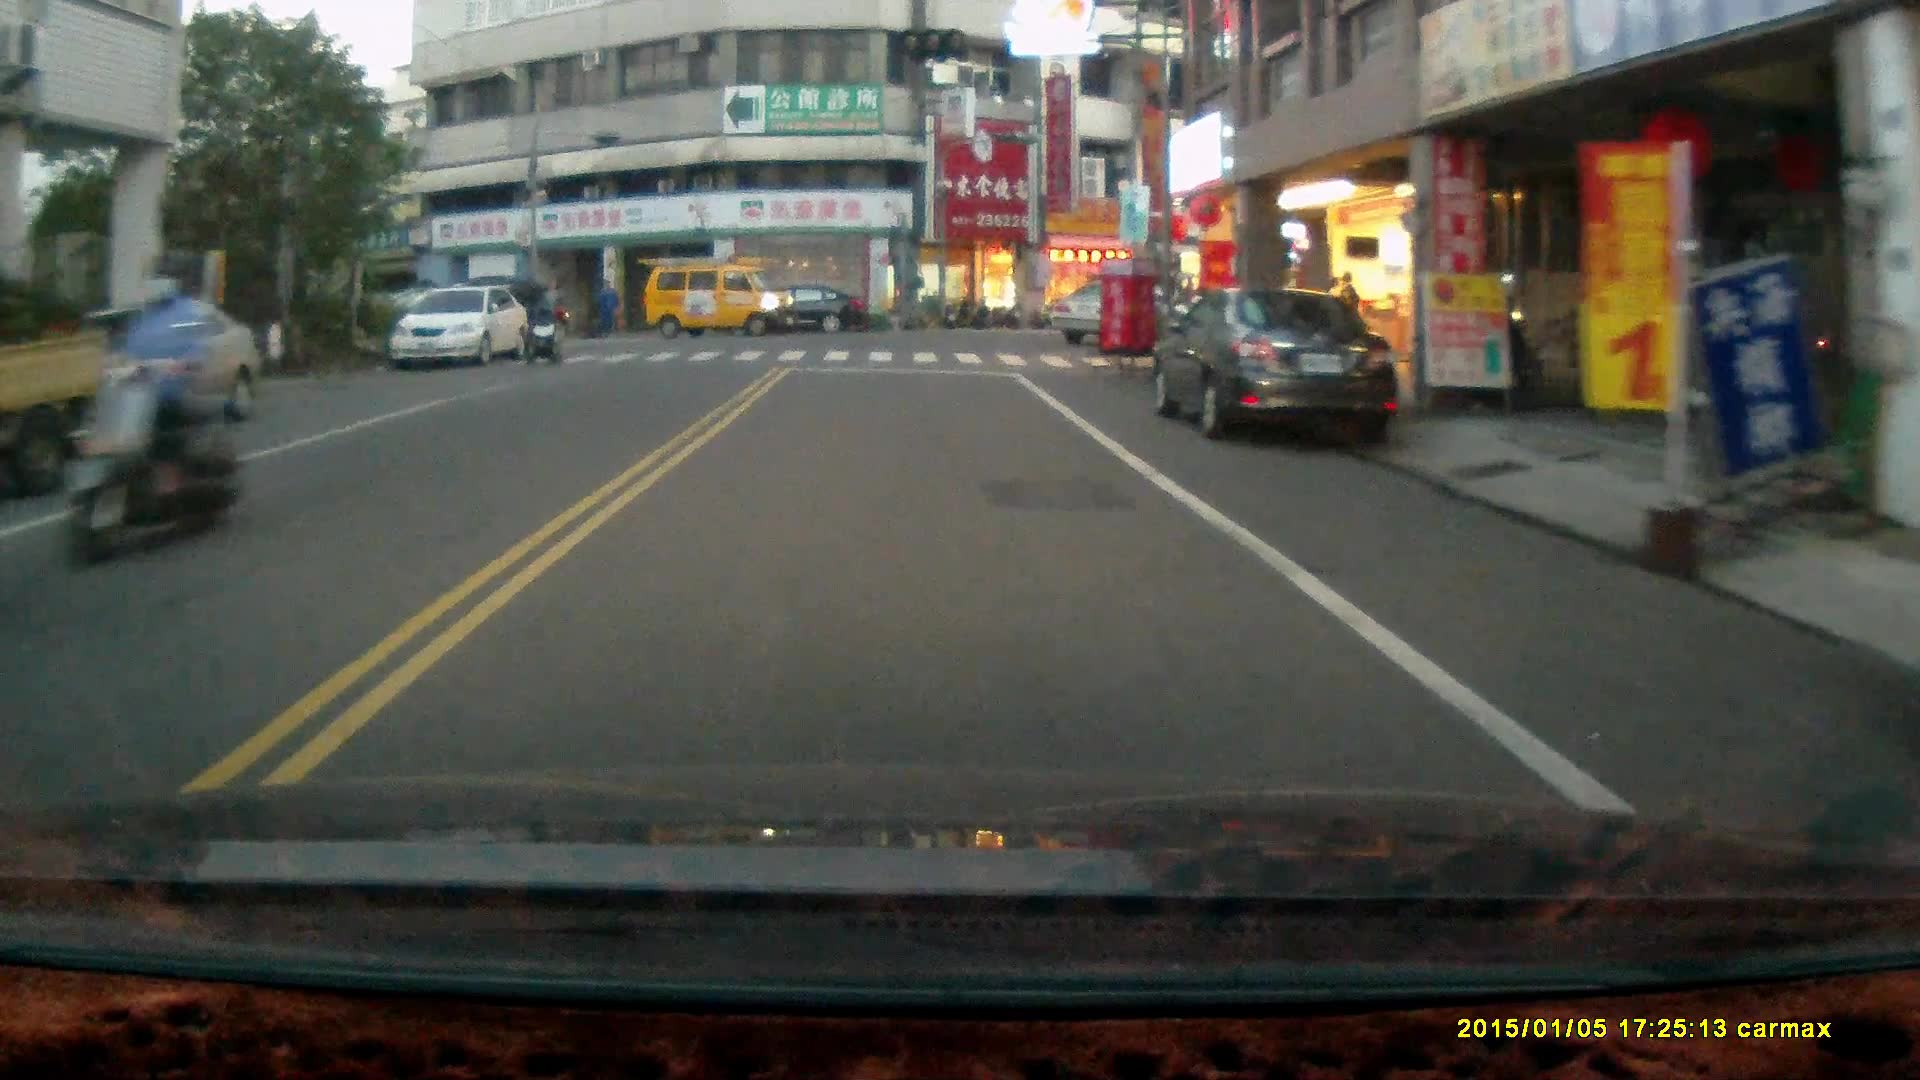pedestrian: (541, 273, 563, 344)
rider: (60, 253, 236, 567), (519, 301, 568, 367)
vehicle: (1151, 289, 1406, 452), (30, 296, 250, 443), (643, 253, 797, 338), (1045, 276, 1215, 351), (395, 288, 530, 373), (742, 284, 868, 334)
